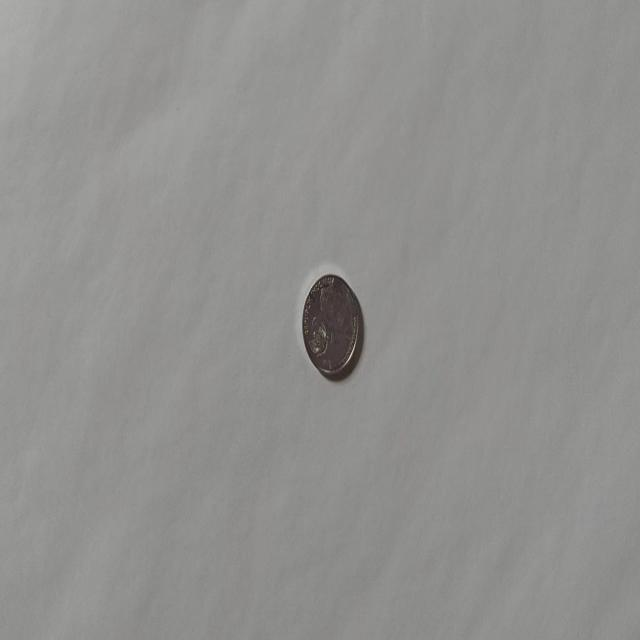dua ratus rupiah: (301, 271, 361, 379)
